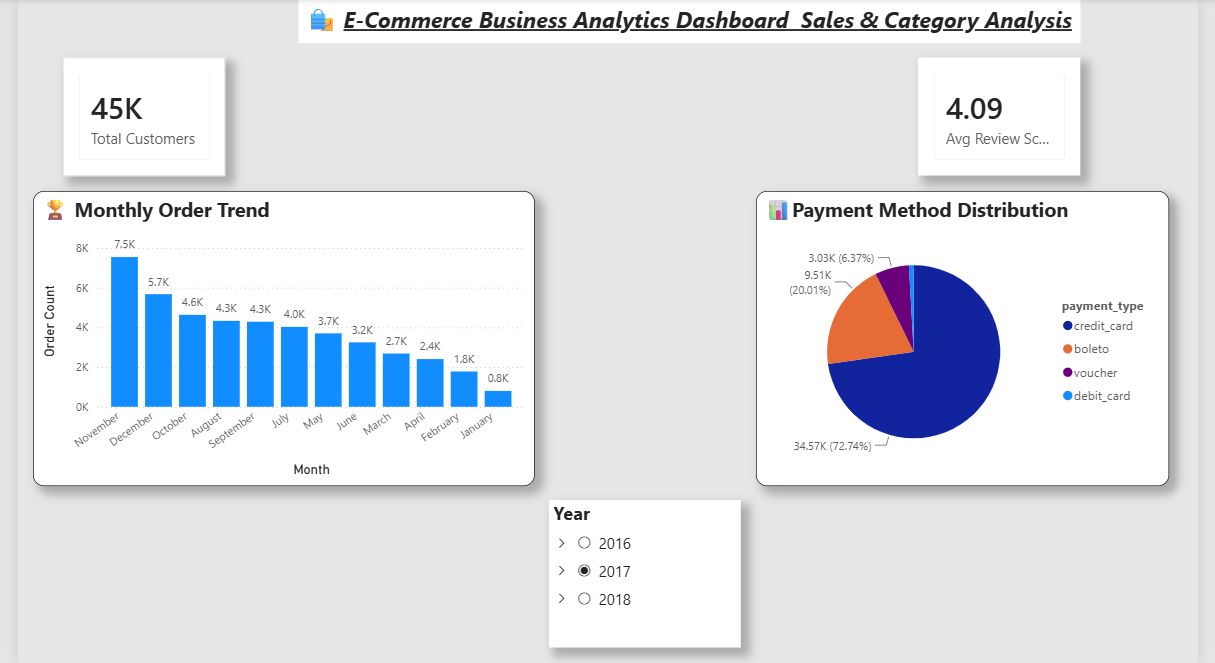

The dashboard page shown, as its layout file describes it:
{"tool":"powerbi","page":{"name":"Detail Analysis","canvas":[1280,720],"ordinal":1},"visuals":[{"type":"listSlicer","fields":{"Values":["cleaned_olist_orders_dataset.Date.Variation.Date Hierarchy.Year"]},"box":[10,0,312.9,324.3],"z":0},{"type":"clusteredBarChart","fields":{"Category":["cleaned_olist_orders_dataset.order_status"],"Y":["Calendar.Order Count"]},"box":[371.4,0,388.6,227.1],"z":1000},{"type":"clusteredColumnChart","fields":{"Category":["Calendar.Month"],"Y":["Calendar.Order Count"]},"box":[542.9,267.1,322.9,261.4],"z":2000},{"type":"cardVisual","fields":{"Data":["Calendar.Total Customers"]},"box":[0,342.9,201.4,168.6],"z":3000},{"type":"listSlicer","fields":{"Values":["Calendar.Date.Variation.Date Hierarchy.Year","Calendar.Date.Variation.Date Hierarchy.Quarter","Calendar.Date.Variation.Date Hierarchy.Month","Calendar.Date.Variation.Date Hierarchy.Day"]},"box":[217.1,398.6,274.3,171.4],"z":3001}]}

Visuals, with their boxes on the page's 1280x720 design canvas (x1, y1, x2, y2). These are canvas units, not pixel positions in the 1215x663 screenshot, which may show the page scaled, cropped or inside an application window:
listSlicer - cleaned_olist_orders_dataset.Date.Variation.Date Hierarchy.Year: [10, 0, 323, 324]
clusteredBarChart - cleaned_olist_orders_dataset.order_status x Calendar.Order Count: [371, 0, 760, 227]
clusteredColumnChart - Calendar.Month x Calendar.Order Count: [543, 267, 866, 528]
cardVisual - Calendar.Total Customers: [0, 343, 201, 512]
listSlicer - Calendar.Date.Variation.Date Hierarchy.Year x Calendar.Date.Variation.Date Hierarchy.Quarter: [217, 399, 491, 570]
